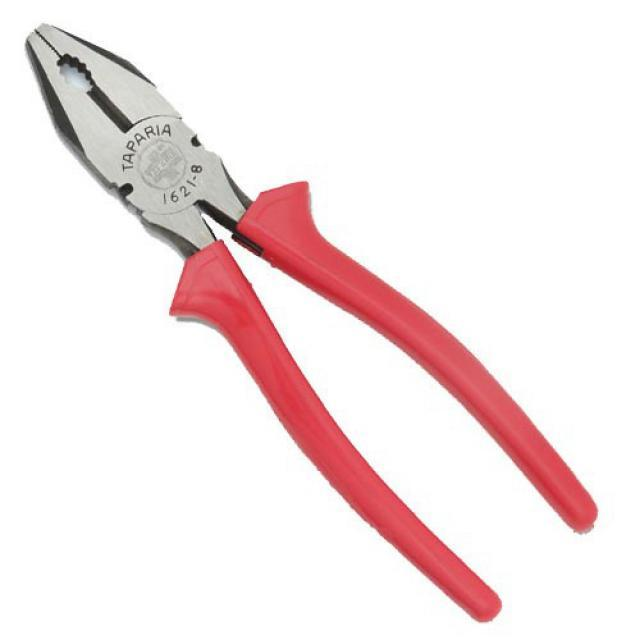pliers: (19, 16, 604, 629)
